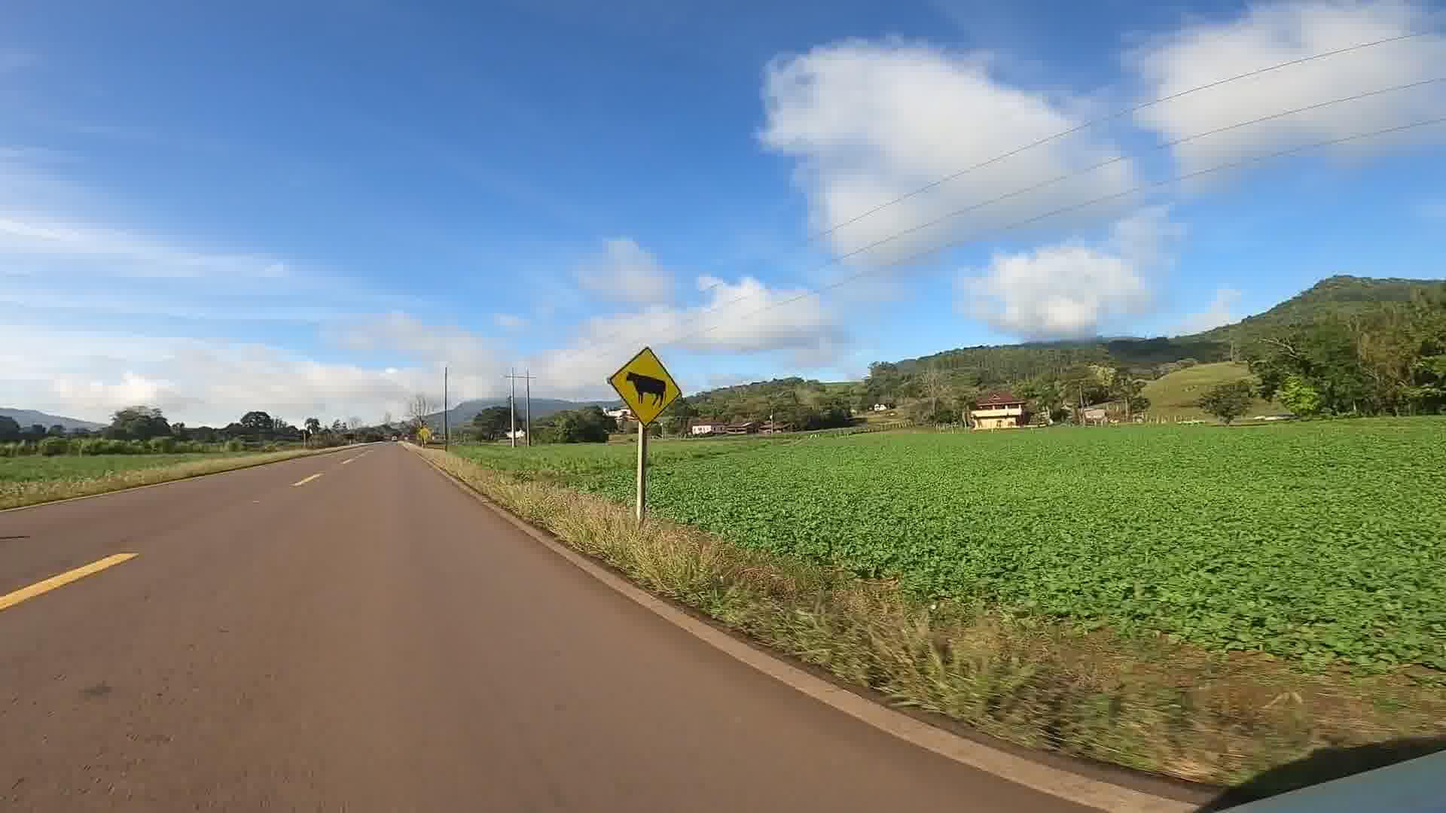A-35: (606, 349, 682, 426)
